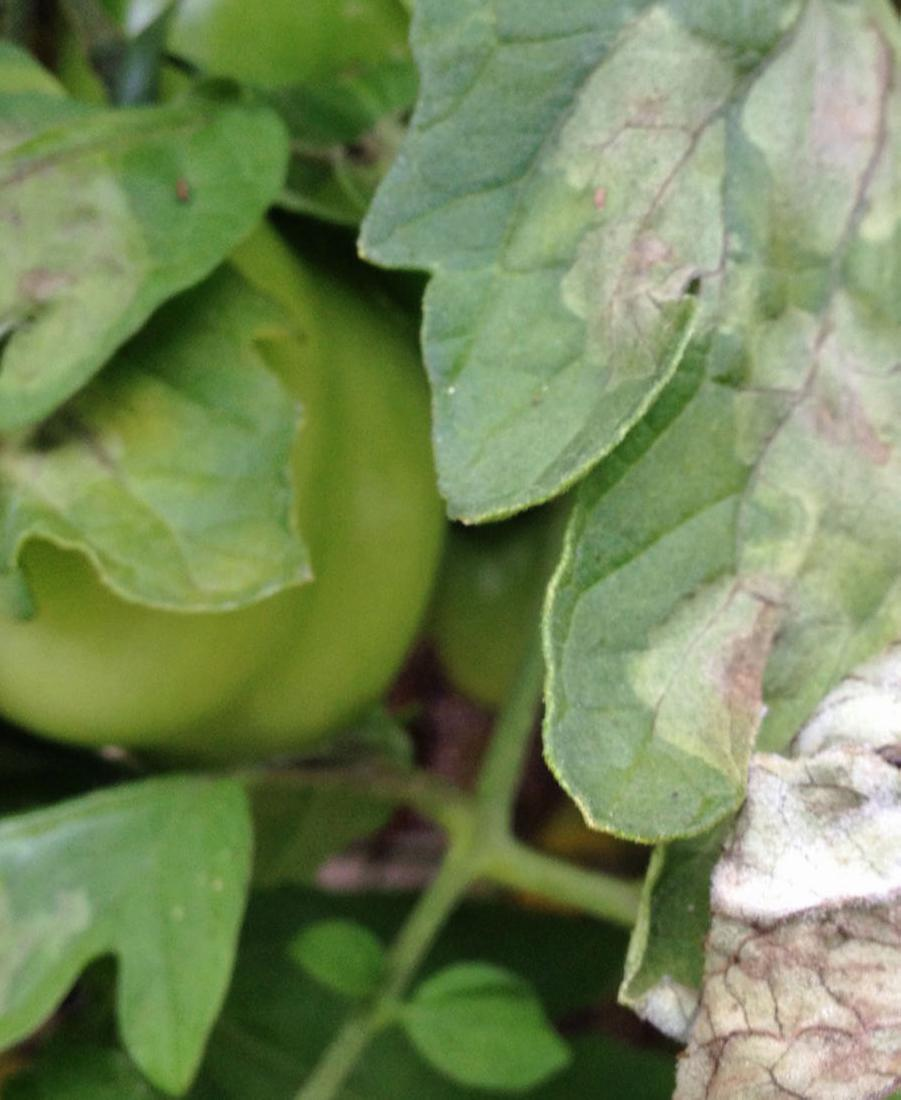Tomato leaf late blight: (518, 0, 901, 871), (370, 0, 829, 566), (0, 706, 384, 1100), (0, 65, 287, 556)
